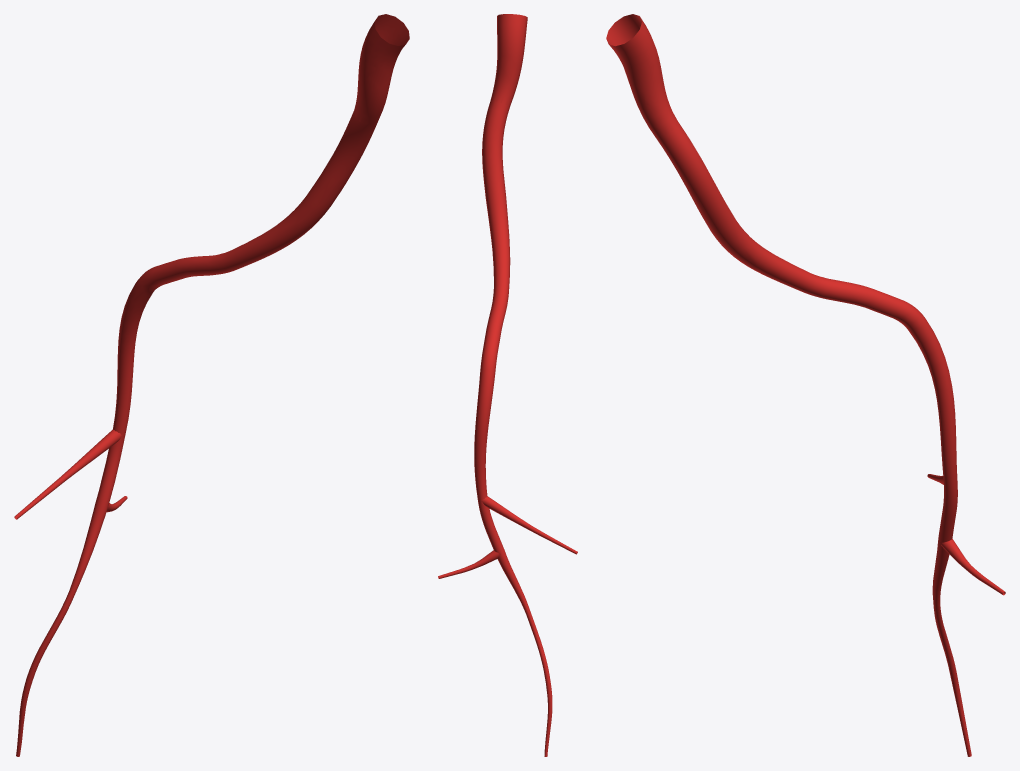
Rendered from circulatorio-inferior-gluteal-veins-r.glb.
3 views of the same model, side by side, from view 1: azimuth 30°, elevation 25°; view 2: azimuth 150°, elevation 25°; view 3: azimuth 270°, elevation 25° (orthographic). The views are drawn at different scales.
Parts seen in each view (by area): view 1: Inferior gluteal veins.r; view 2: Inferior gluteal veins.r; view 3: Inferior gluteal veins.r.
Boxes of the visible parts, left/top/right/bottom form: Inferior gluteal veins.r: left=14, top=14, right=409, bottom=756; Inferior gluteal veins.r: left=438, top=14, right=577, bottom=756; Inferior gluteal veins.r: left=606, top=14, right=1005, bottom=756.
Bounding box in the file's own units: 0.0427 × 0.1325 × 0.0569.
